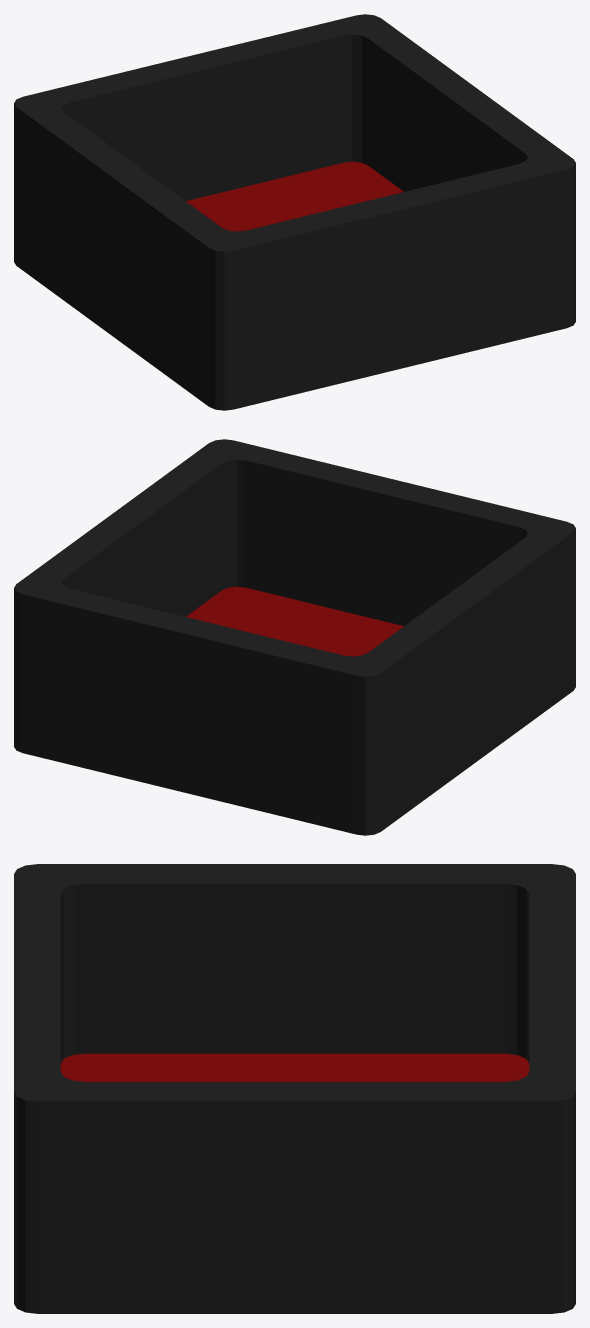
File: board.glb
3 views of the same model, one above another, from view 1: azimuth 30°, elevation 25°; view 2: azimuth 150°, elevation 25°; view 3: azimuth 270°, elevation 25° (orthographic). The views are drawn at different scales.
Parts seen in each view (by area): view 1: 0_Board_mesh_; view 2: 0_Board_mesh_; view 3: 0_Board_mesh_.
Boxes of the visible parts, box(x1,y1,x2,y2) form: 0_Board_mesh_: box(14, 14, 575, 410); 0_Board_mesh_: box(14, 439, 575, 835); 0_Board_mesh_: box(14, 864, 575, 1313).
Size of the model in its own units: 30 by 12.5 by 30.
Materials: 1 (1 with a texture image).
